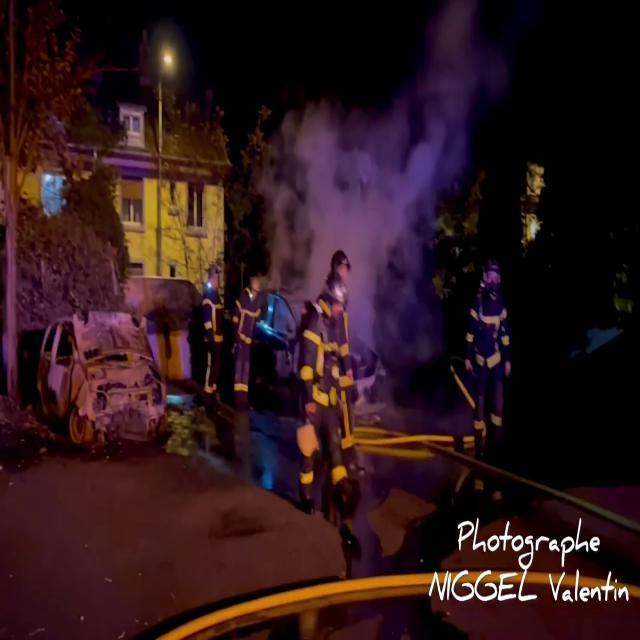Smoke: (264, 4, 508, 336)
